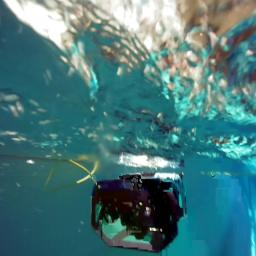Side: (91, 170, 188, 252)
